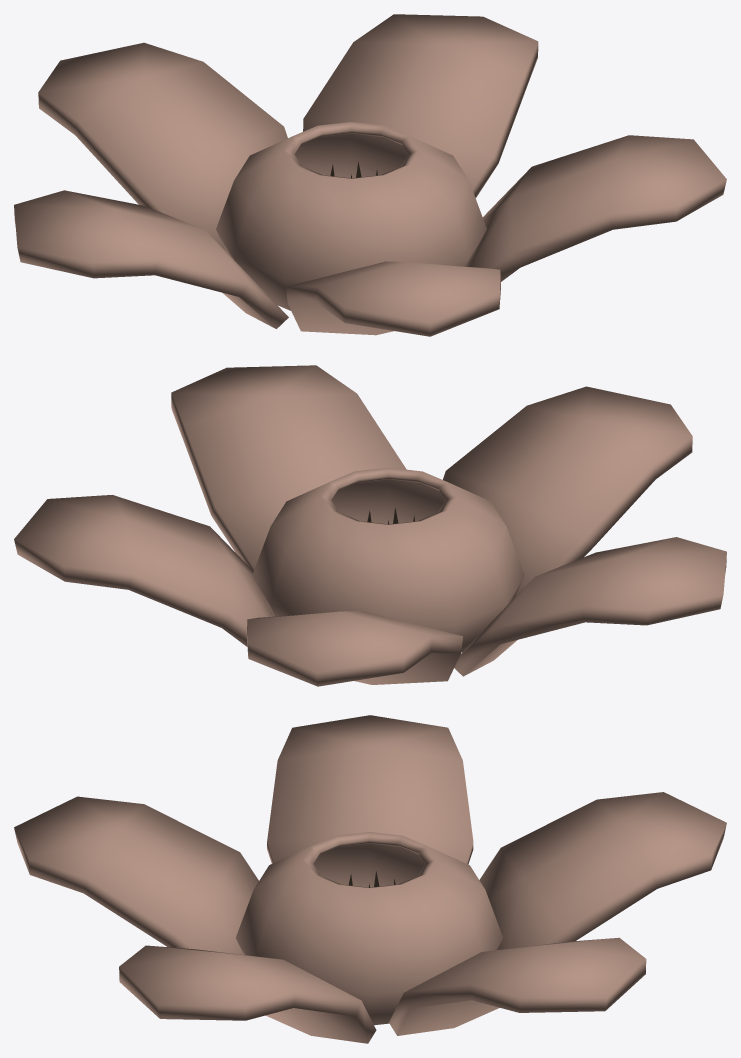
The model's file is tree4.FBX.
3 renders of one model, top to bottom at view 1: azimuth 30°, elevation 25°; view 2: azimuth 150°, elevation 25°; view 3: azimuth 270°, elevation 25°, orthographic.
Parts seen in each view (by area): view 1: tree4; view 2: tree4; view 3: tree4.
Boxes of the visible parts, x1=… form: tree4: x1=14, y1=14, x2=726, y2=336; tree4: x1=14, y1=365, x2=726, y2=686; tree4: x1=14, y1=715, x2=726, y2=1043.
Bounding box in the file's own units: 50.83 × 10.96 × 51.9.
